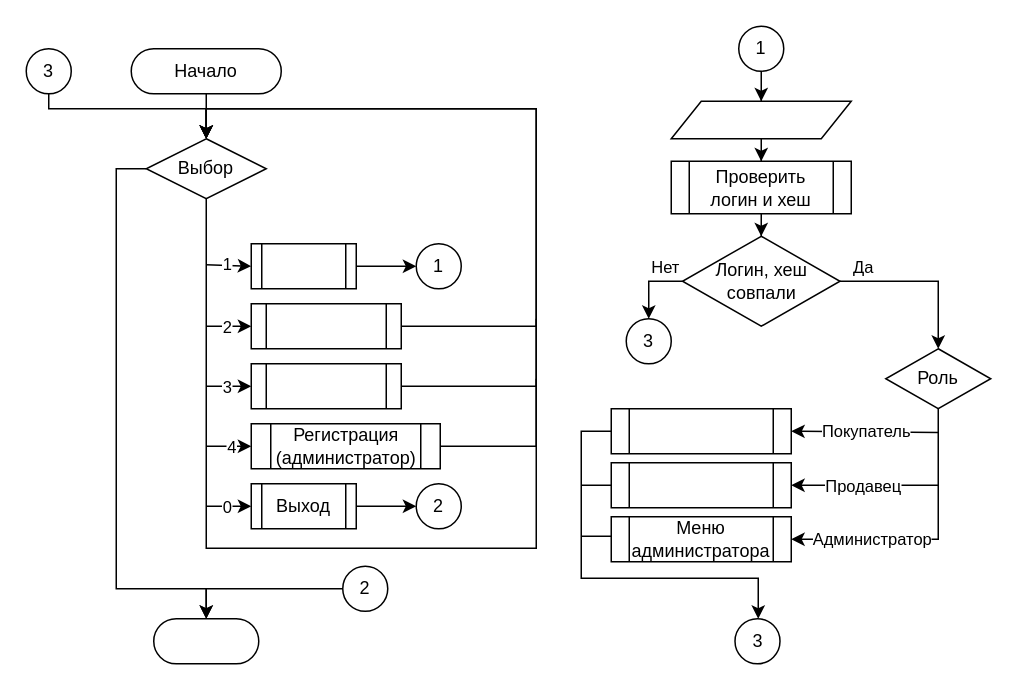
This 1017x690 diagram has some shape labels left out. Here are the shapes that lost their labels. From the top down, the centre of each, then its label:
At (760,119): "Логин, пароль".
At (303,265): "Вход".
At (325,325): "Регистрация".
At (325,385): "Регистрация (продавец)".
At (700,430): "Меню покупателя".
At (700,484): "Меню продавца".
At (205,640): "Конец".
